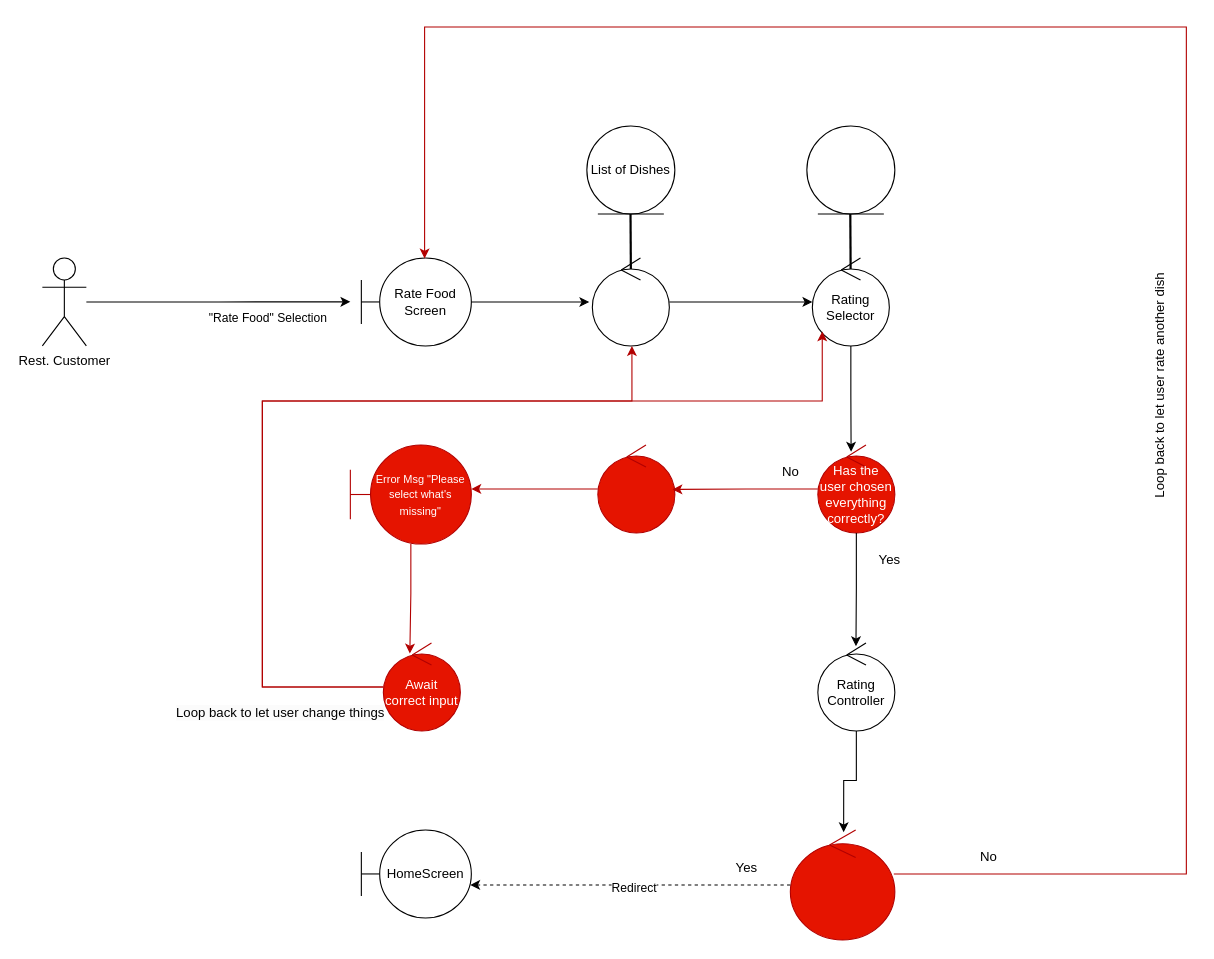
Some shapes in this 1214 by 959 pixel diagram are drawn without their labels. Here are the shapes that lost their labels. From the top down, the box of each, then its label:
(806, 125, 895, 214): List of Ratings (1/2/3 Stars)
(591, 257, 669, 346): Dish Selector
(597, 444, 675, 533): Show
(789, 829, 895, 940): Did the user press the "Back To Home" Button ?
